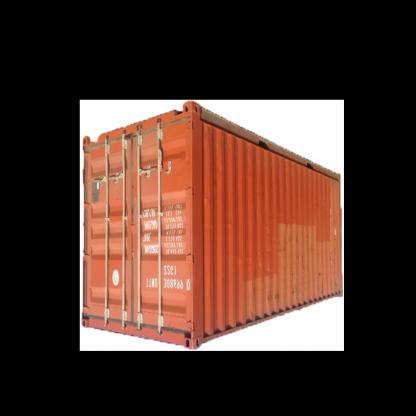Damage: (326, 197, 338, 256), (268, 234, 293, 256), (254, 289, 282, 306), (312, 270, 326, 294)
